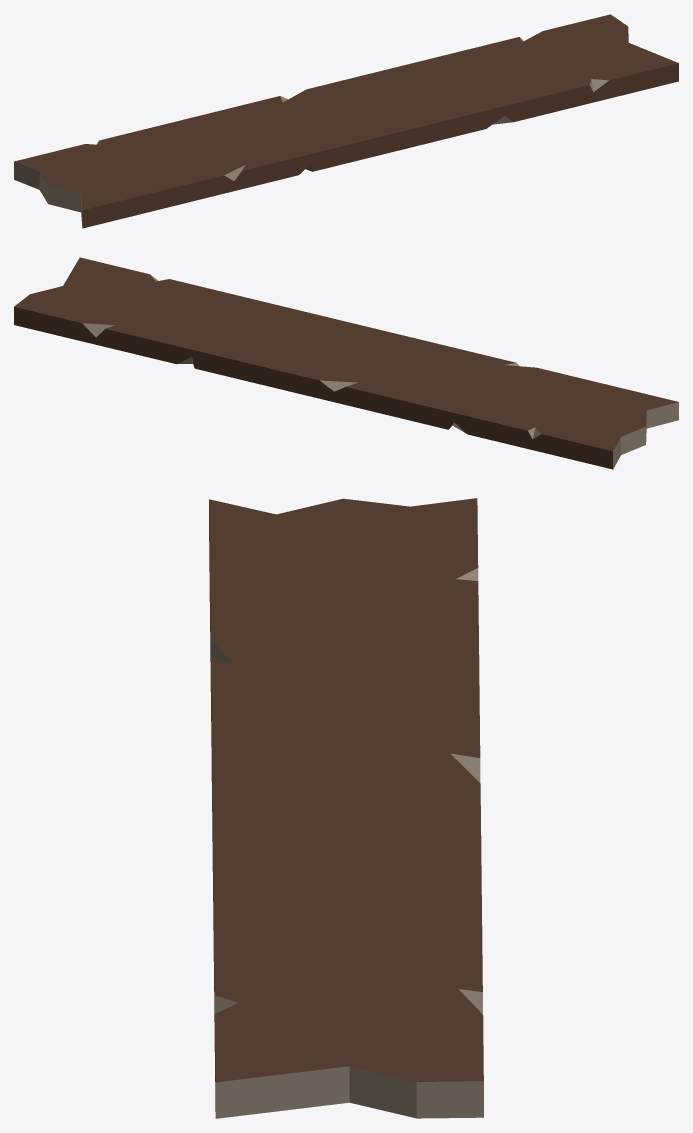
Rendered from Wooden Plank.fbx.
The picture shows the model from 3 angles, top to bottom: view 1: azimuth 30°, elevation 25°; view 2: azimuth 150°, elevation 25°; view 3: azimuth 270°, elevation 25°; orthographic projection. The views are drawn at different scales.
Parts seen in each view (by area): view 1: Wooden Plank; view 2: Wooden Plank; view 3: Wooden Plank.
Boxes of the visible parts, x1,y1,x2,y2 form: Wooden Plank: (14,14,678,228); Wooden Plank: (14,257,678,469); Wooden Plank: (209,498,483,1118).
Bounding box in the file's own units: 0.7542 × 0.022 × 0.1499.
